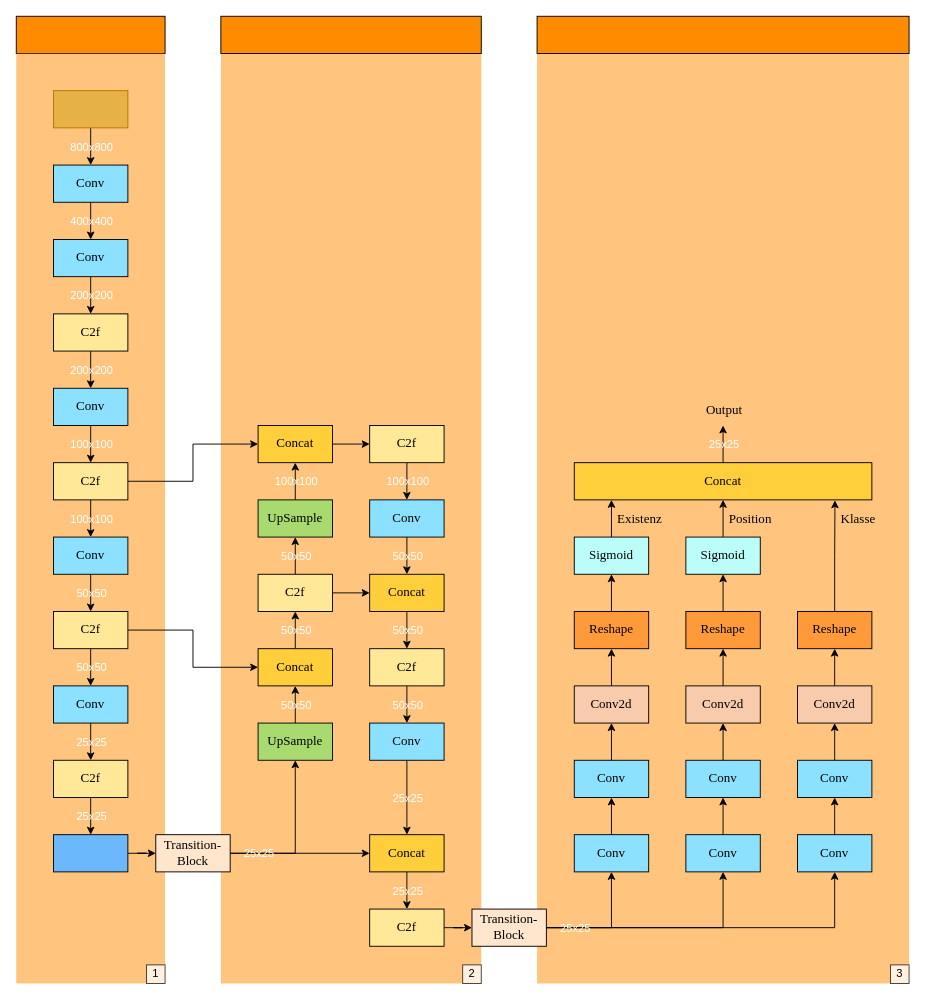
Some shapes in this 925 by 1000 pixel diagram are drawn without their labels. The shapes that lost their labels are listed below. From the top down, each one's centre as x and y in pixels, then its label:
At (90,34): "Backbone".
At (350,34): "Head".
At (722,34): "Detect".
At (90,109): "Input".
At (90,853): "SPPF".
